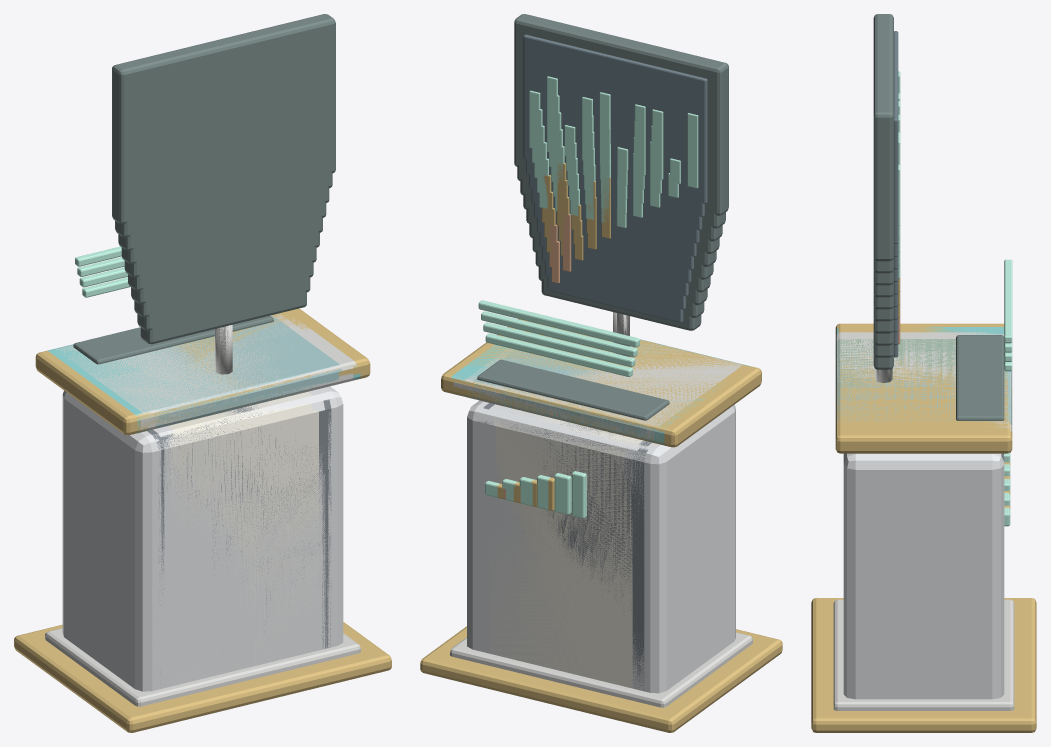
Rendered from Gear03.fbx.
3 renders of one model, left to right at view 1: azimuth 30°, elevation 25°; view 2: azimuth 150°, elevation 25°; view 3: azimuth 270°, elevation 25°, orthographic. The views are drawn at different scales.
Parts seen in each view (by area): view 1: Gear03_V10_Ink, Gear03_V10_Platinum, Gear03_V6_Platinum, Gear03_V4_Linen, Gear03_V5_Platinum, Gear03_V1_Ink, Gear03_V9_Ink, Gear03_V10_Gold, Gear03_V7_Ink, Gear03_V4_Ink, Gear03_V3_Ink, Gear03_V5_Ink (+18 smaller); view 2: Gear03_V10_Platinum, Gear03_V10_Gold, Gear03_V4_Linen, Gear03_V10_Glass, Gear03_V10_Ink, Gear03_V2_Ivory, Gear03_V8_Graphite, Gear03_V10_Glow, Gear03_V9_Platinum, Gear03_V4_Glass, Gear03_V3_Linen, Gear03_V6_Chrome (+33 smaller); view 3: Gear03_V10_Platinum, Gear03_V10_Gold, Gear03_V9_Gold, Gear03_V10_Ink, Gear03_V5_Chrome, Gear03_V1_Sage, Gear03_V2_Blue, Gear03_V10_Chrome, Gear03_V4_Ink, Gear03_V10_Glow, Gear03_V3_Ink, Gear03_V6_Chrome (+6 smaller).
Part boxes in pixels (box(x1,y1,x2,y2)): Gear03_V10_Ink: box(73, 14, 335, 364); Gear03_V10_Platinum: box(62, 386, 343, 691); Gear03_V6_Platinum: box(153, 399, 325, 687); Gear03_V4_Linen: box(166, 392, 318, 661); Gear03_V5_Platinum: box(166, 401, 322, 678); Gear03_V1_Ink: box(99, 202, 306, 353); Gear03_V9_Ink: box(78, 43, 332, 361); Gear03_V10_Gold: box(14, 308, 391, 732); Gear03_V7_Ink: box(94, 83, 326, 362); Gear03_V4_Ink: box(131, 161, 316, 304); Gear03_V3_Ink: box(118, 168, 313, 359); Gear03_V5_Ink: box(89, 121, 319, 343); Gear03_V10_Platinum: box(467, 400, 735, 693); Gear03_V10_Gold: box(420, 319, 782, 732); Gear03_V4_Linen: box(490, 416, 643, 688); Gear03_V10_Glass: box(523, 34, 707, 203); Gear03_V10_Ink: box(477, 14, 728, 420); Gear03_V2_Ivory: box(496, 418, 633, 604); Gear03_V8_Graphite: box(478, 403, 648, 689); Gear03_V10_Glow: box(478, 76, 698, 516); Gear03_V9_Platinum: box(475, 452, 649, 691); Gear03_V4_Glass: box(539, 152, 691, 283); Gear03_V3_Linen: box(493, 416, 632, 687); Gear03_V6_Chrome: box(457, 316, 742, 699); Gear03_V10_Platinum: box(843, 453, 1004, 699); Gear03_V10_Gold: box(811, 323, 1036, 732); Gear03_V9_Gold: box(812, 325, 1036, 720); Gear03_V10_Ink: box(873, 14, 1004, 420); Gear03_V5_Chrome: box(835, 332, 1011, 652); Gear03_V1_Sage: box(835, 339, 1012, 416); Gear03_V2_Blue: box(835, 339, 1012, 424); Gear03_V10_Chrome: box(833, 369, 1014, 710); Gear03_V4_Ink: box(873, 318, 1002, 408); Gear03_V10_Glow: box(898, 71, 1012, 526); Gear03_V3_Ink: box(873, 330, 1004, 408); Gear03_V6_Chrome: box(834, 369, 1012, 697).
Bounding box in the file's own units: 73.12 × 167 × 56.
